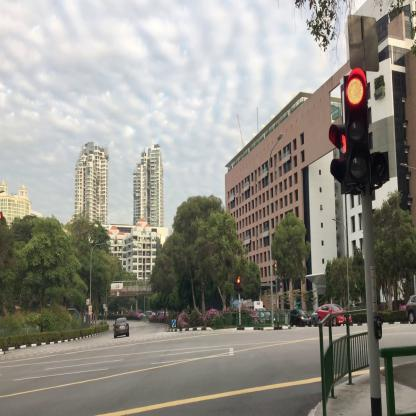red_traffic_light: (346, 76, 371, 184), (238, 278, 240, 292)
